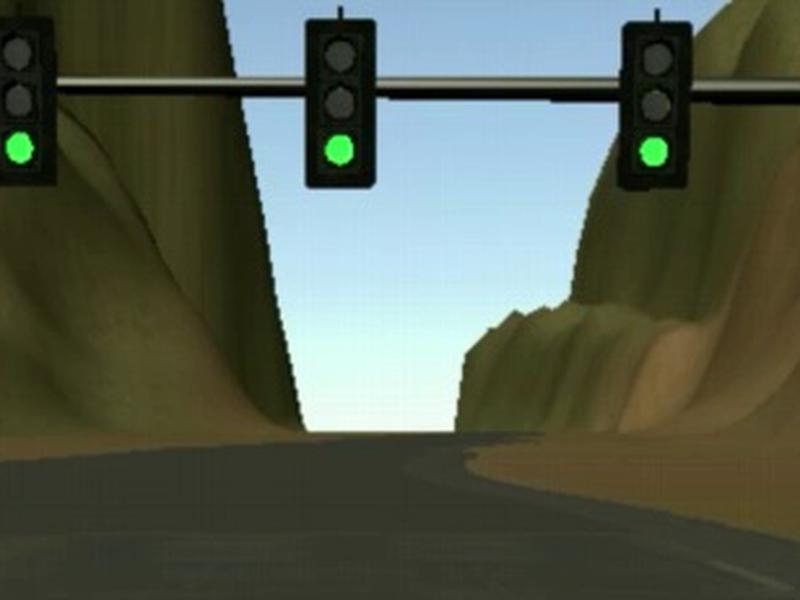Green: (617, 21, 692, 190), (304, 19, 375, 189), (1, 16, 58, 186)
